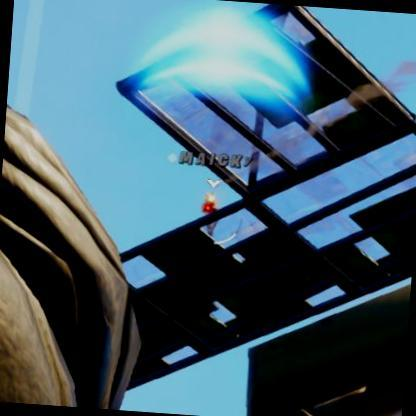person: (199, 190, 220, 247)
